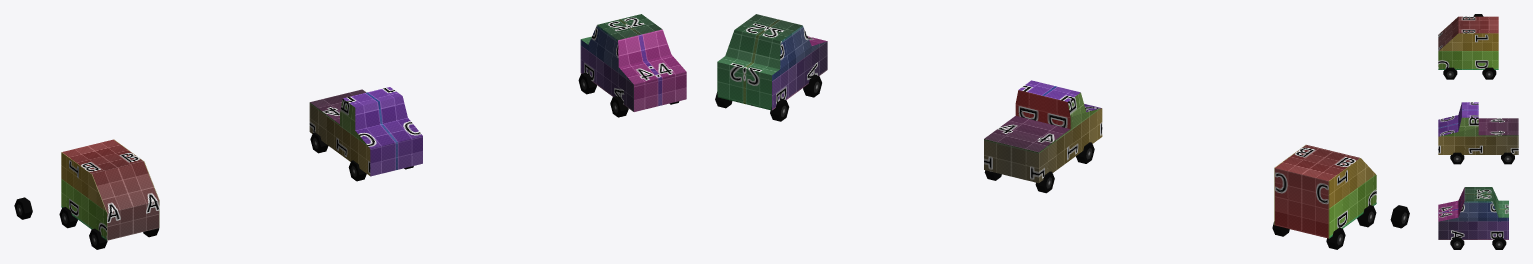
The model's file is cars.glb.
3 renders of one model, left to right at view 1: azimuth 30°, elevation 25°; view 2: azimuth 150°, elevation 25°; view 3: azimuth 270°, elevation 25°, orthographic. The views are drawn at different scales.
Visible parts, largest first — view 1: Cube, Cube.003, Cube.002; view 2: Cube.002, Cube.003, Cube; view 3: Cube.002, Cube.003, Cube, Cylinder.004, Cylinder.011, Cylinder.003, Cylinder.012, Cylinder.007, Cylinder.008.
Boxes of the visible parts, left/top/right/bottom form: Cube: left=61, top=139, right=159, bottom=240; Cube.003: left=580, top=14, right=686, bottom=111; Cube.002: left=309, top=87, right=422, bottom=176; Cube.002: left=984, top=80, right=1102, bottom=183; Cube.003: left=717, top=14, right=827, bottom=110; Cube: left=1274, top=144, right=1376, bottom=238; Cube.002: left=1438, top=102, right=1518, bottom=154; Cube.003: left=1438, top=187, right=1508, bottom=239; Cube: left=1438, top=16, right=1498, bottom=69; Cylinder.004: left=1482, top=67, right=1496, bottom=79; Cylinder.011: left=1450, top=237, right=1464, bottom=249; Cylinder.003: left=1443, top=67, right=1457, bottom=79; Cylinder.012: left=1492, top=237, right=1506, bottom=249; Cylinder.007: left=1450, top=152, right=1464, bottom=164; Cylinder.008: left=1501, top=152, right=1514, bottom=164.
Bounding box in the file's own units: 24.31 × 2.52 × 4.
1 material, 1 textured.
